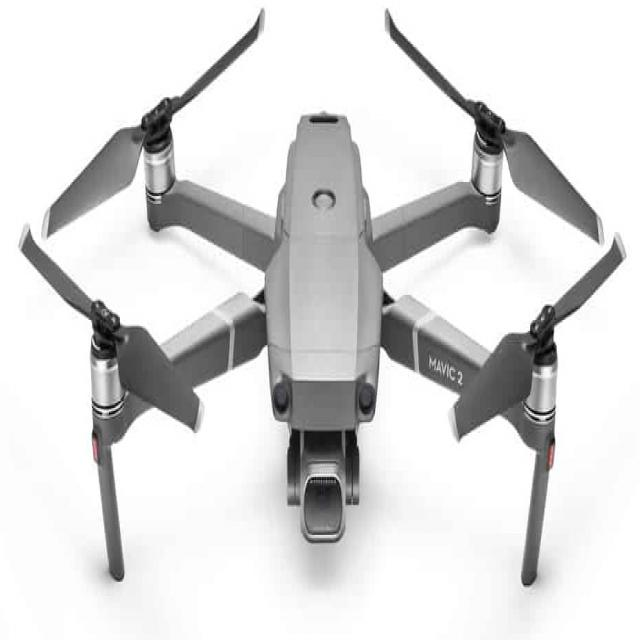drone: (10, 4, 629, 624)
